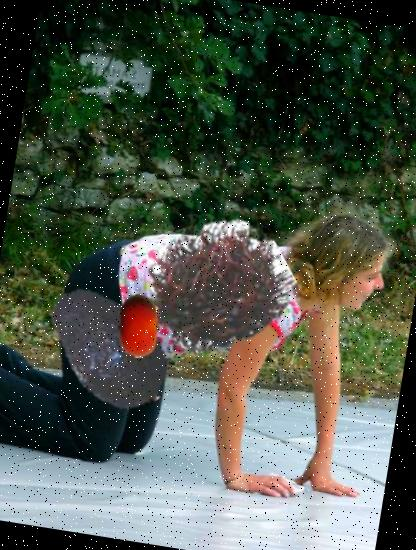Avocado: (30, 266, 192, 428)
Nectarine: (102, 290, 176, 363)
Rambutan: (136, 203, 298, 366)
